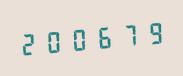nine: (138, 16, 161, 49)
seven: (114, 18, 137, 51)
six: (90, 20, 113, 54)
two: (17, 26, 40, 60)
zero: (41, 24, 64, 58), (66, 22, 89, 56)
